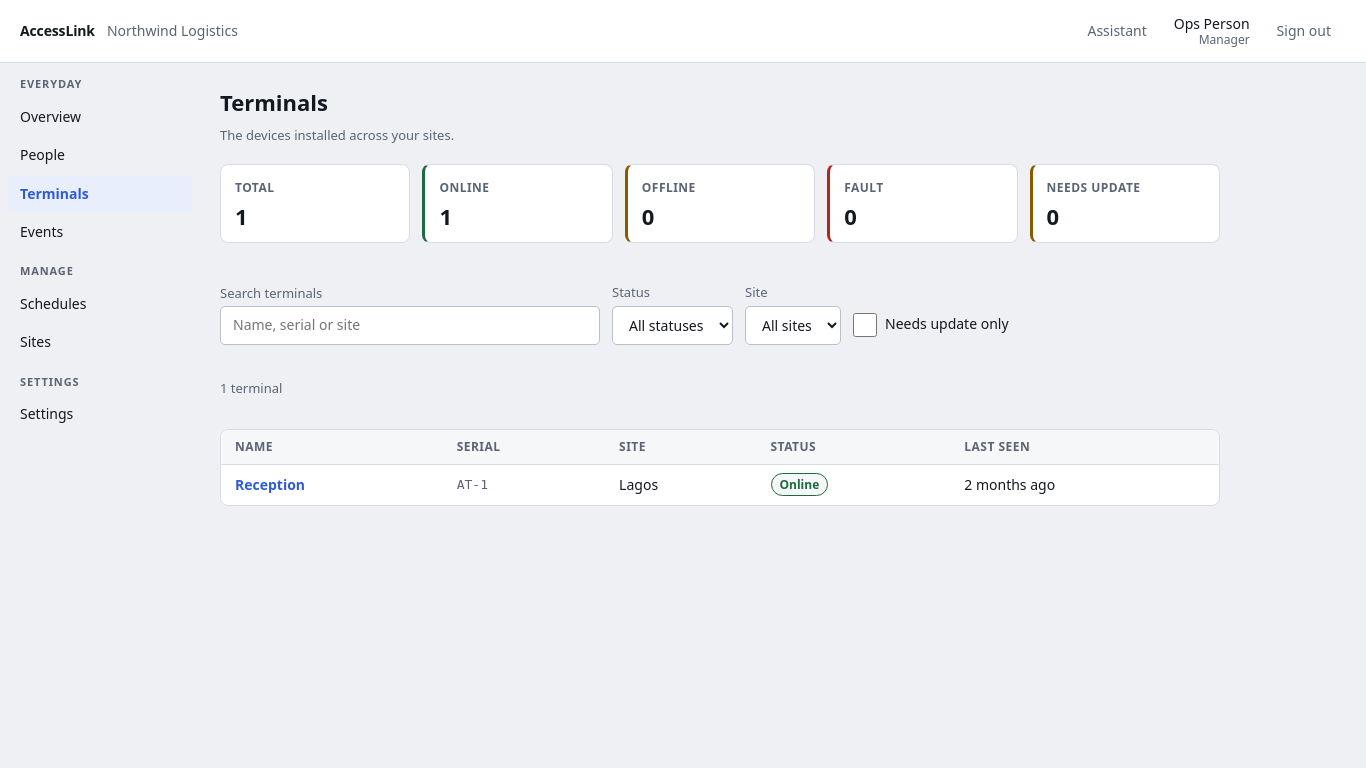
Test: the device-test card › refreshes nothing when the operator rejects it
Expected: the link "Reception" is shown, [235, 473, 305, 497]
Click the button "Assistant" at (1117, 31), box [1072, 12, 1162, 50]
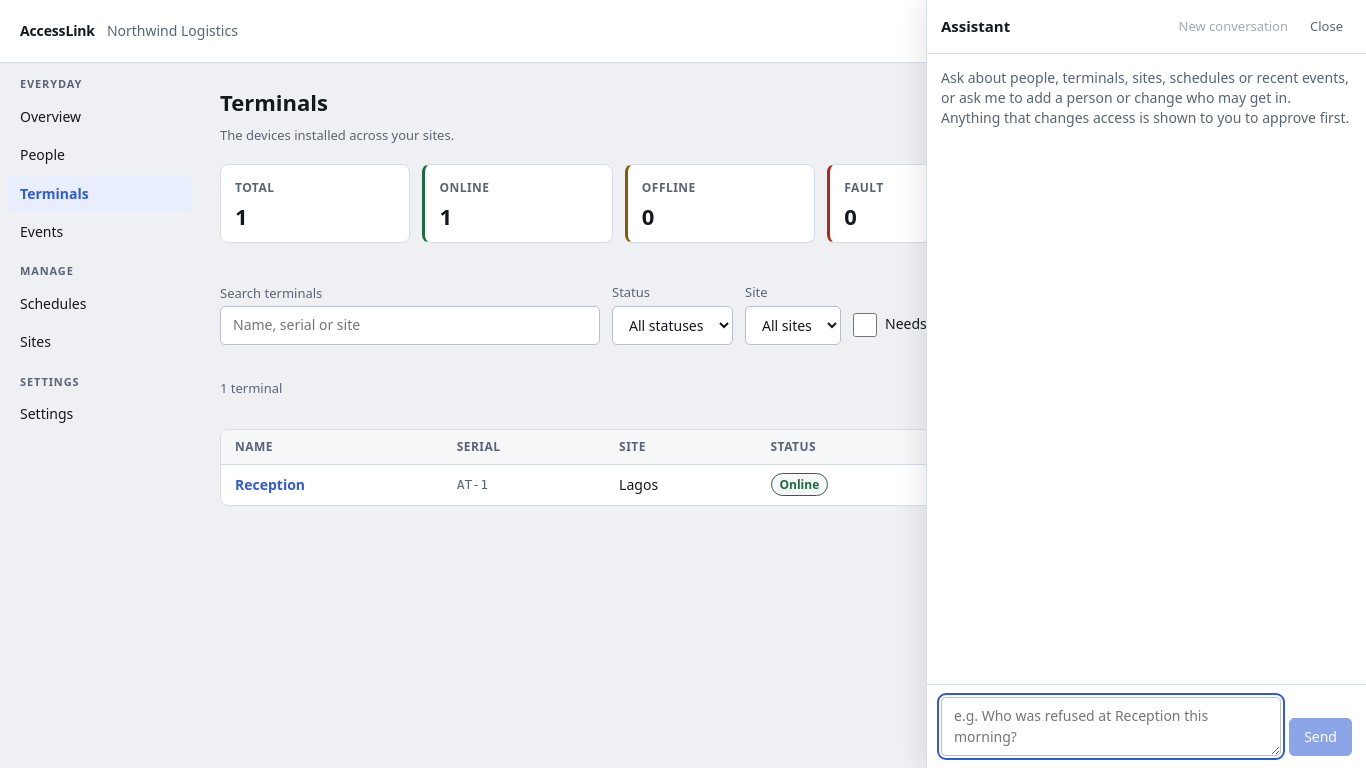
Type "light the display" into the text box named "Message the assistant" at (1111, 727), box [941, 697, 1281, 756]
Then press Enter
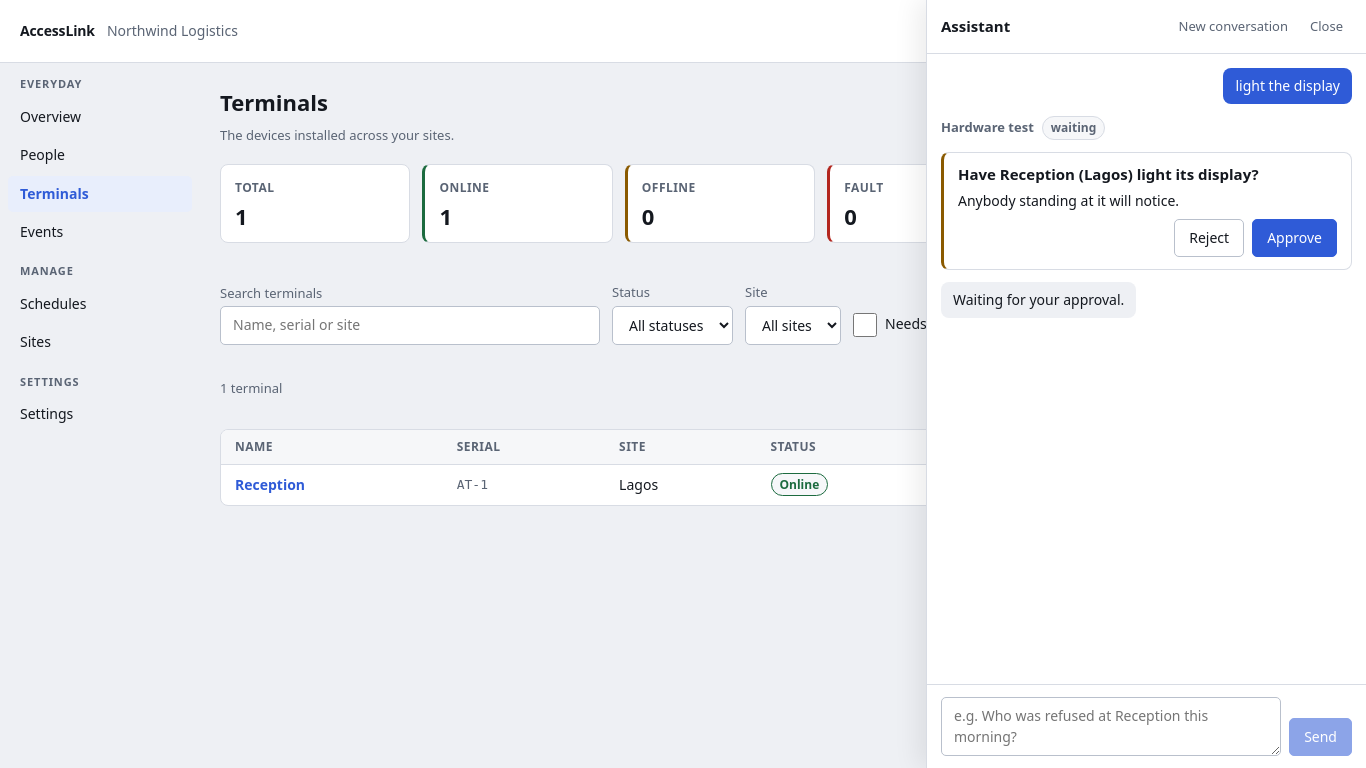
Click the button "Reject" at (1209, 238), box [1174, 219, 1244, 257]
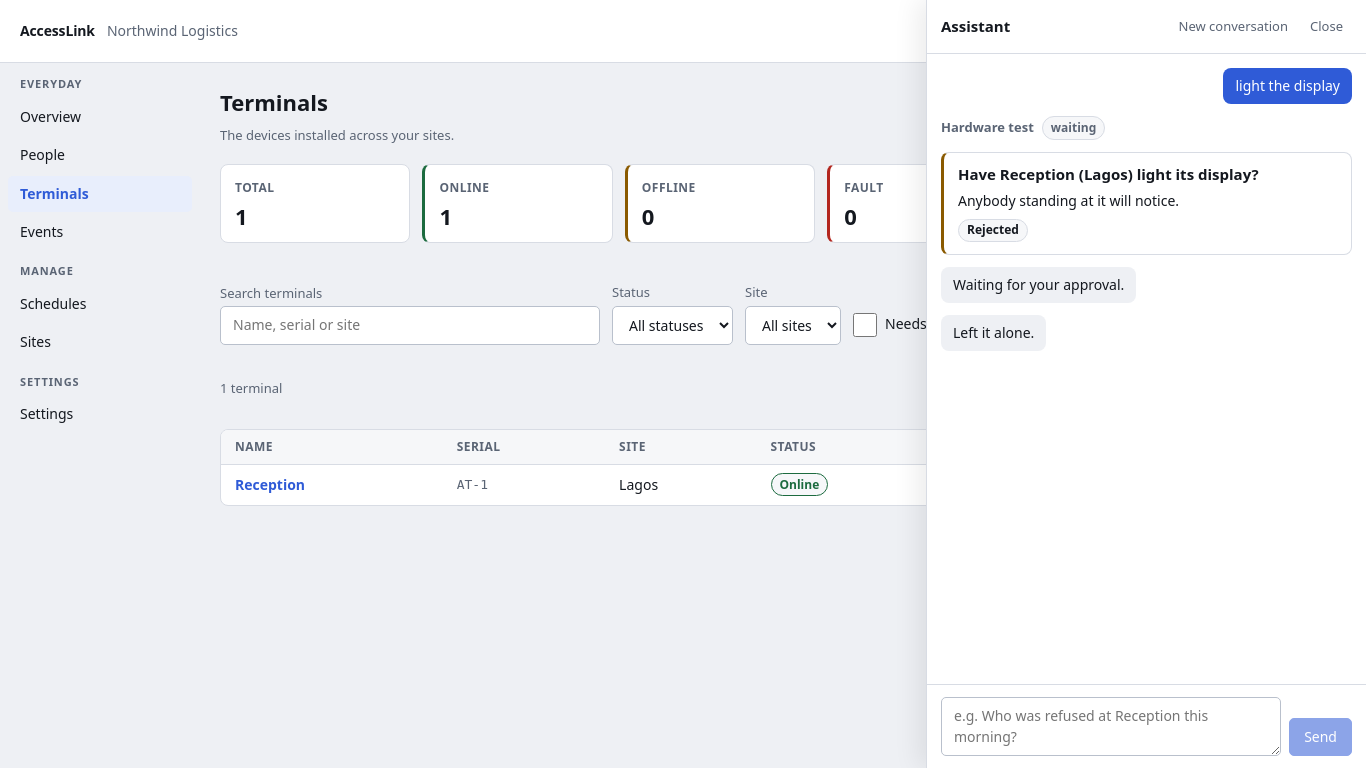
Expected: the text "Left it alone." is shown, [941, 315, 1046, 351]
Expected: the text "Rejected" is shown, [958, 219, 1028, 242]
